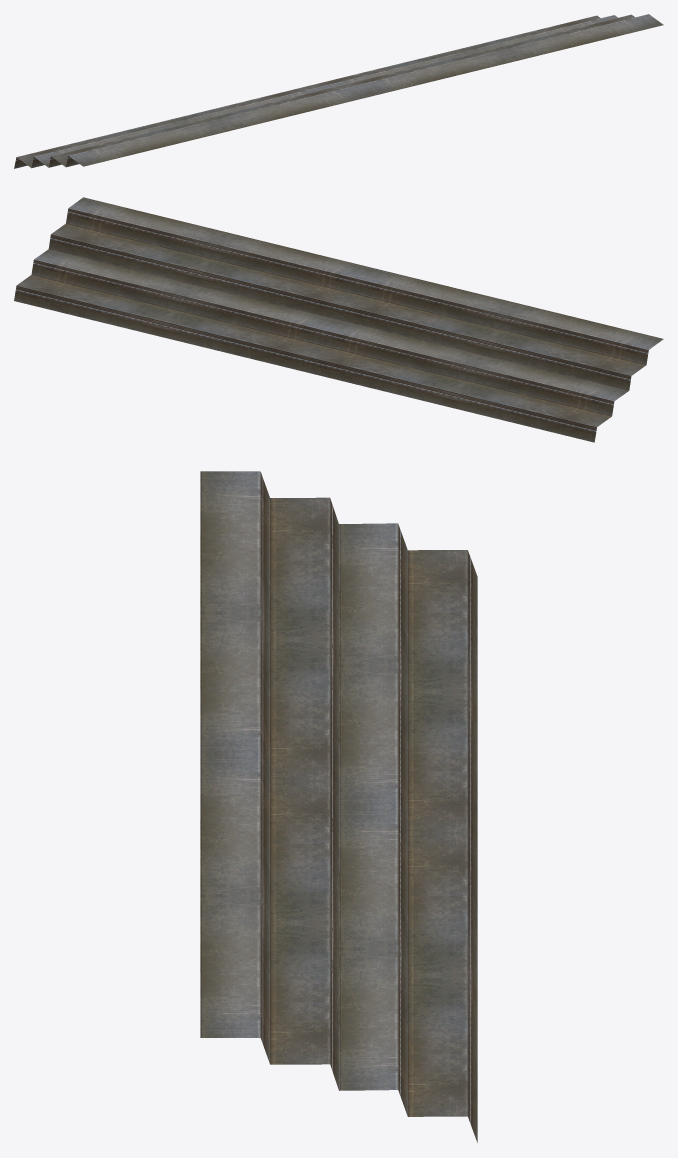
The model's file is fxdx_lt_01.FBX.
3 renders of one model, top to bottom at view 1: azimuth 30°, elevation 25°; view 2: azimuth 150°, elevation 25°; view 3: azimuth 270°, elevation 25°, orthographic. The views are drawn at different scales.
Parts seen in each view (by area): view 1: fxdx_lt_01; view 2: fxdx_lt_01; view 3: fxdx_lt_01.
Boxes of the visible parts, x1,y1,x2,y2 form: fxdx_lt_01: (14,14,663,168); fxdx_lt_01: (14,197,663,442); fxdx_lt_01: (200,471,477,1142).
Size of the model in its own units: 1444 by 126 by 299.
